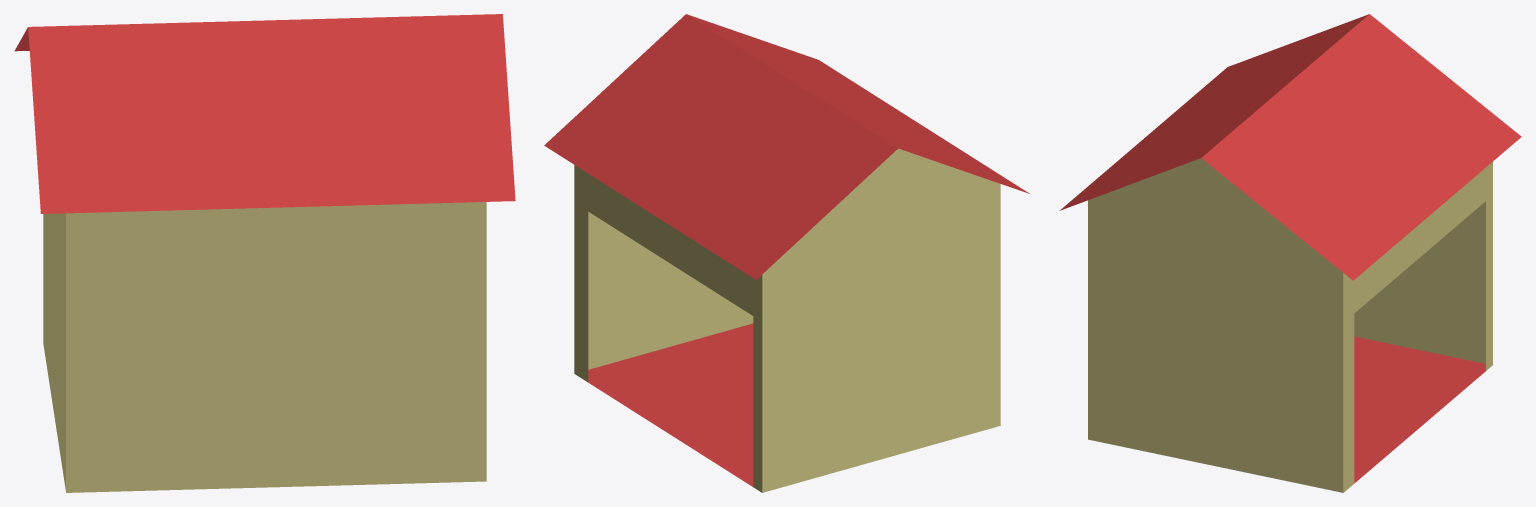
3 views of the same model, side by side, from view 1: azimuth 30°, elevation 25°; view 2: azimuth 150°, elevation 25°; view 3: azimuth 270°, elevation 25° (orthographic). The views are drawn at different scales.
Bounding box in the file's own units: 16.83 × 16.02 × 12.05.
